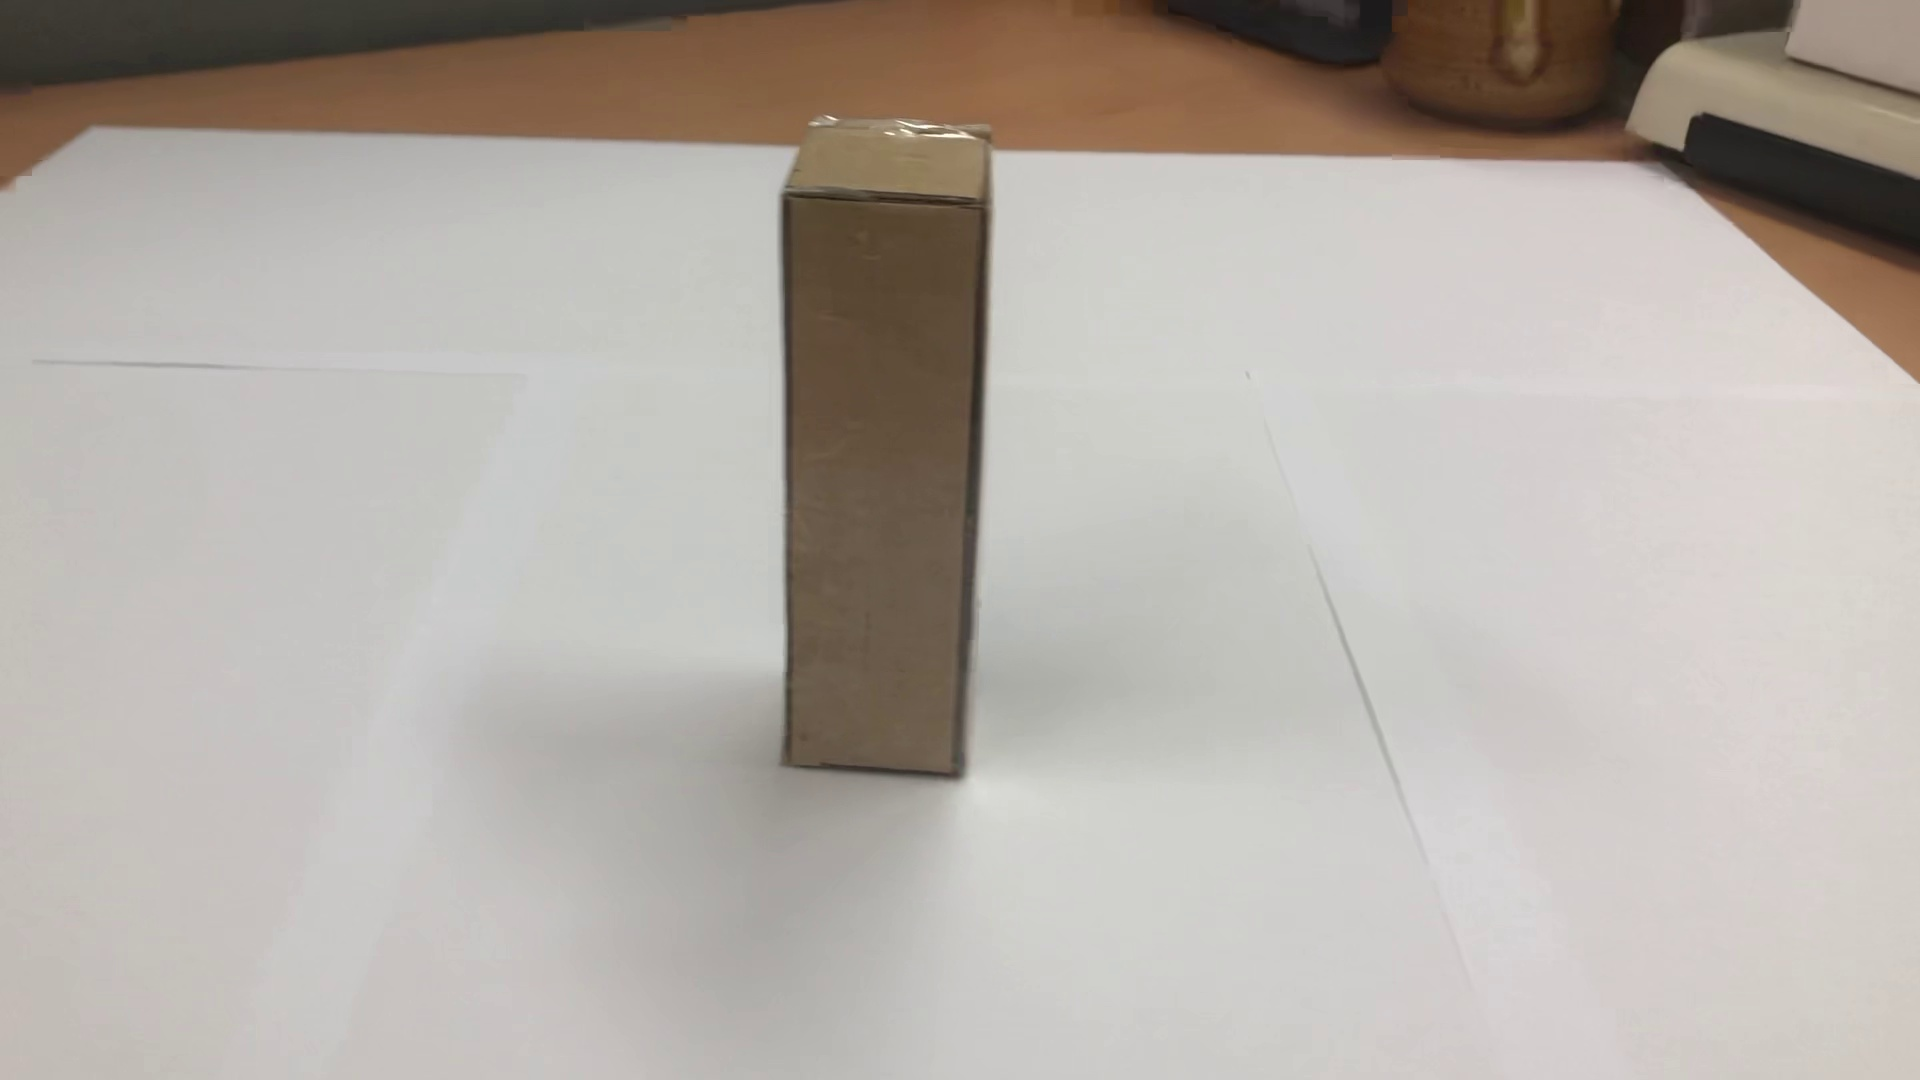box: (746, 76, 1013, 818)
